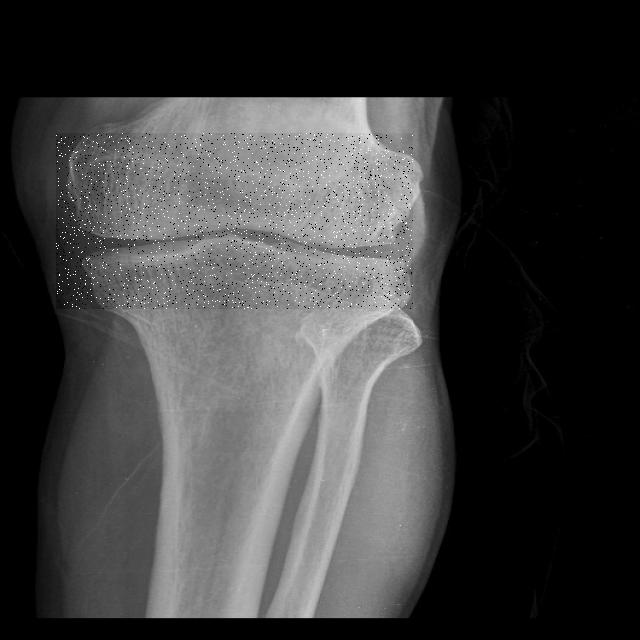osteo: (56, 133, 413, 309)
